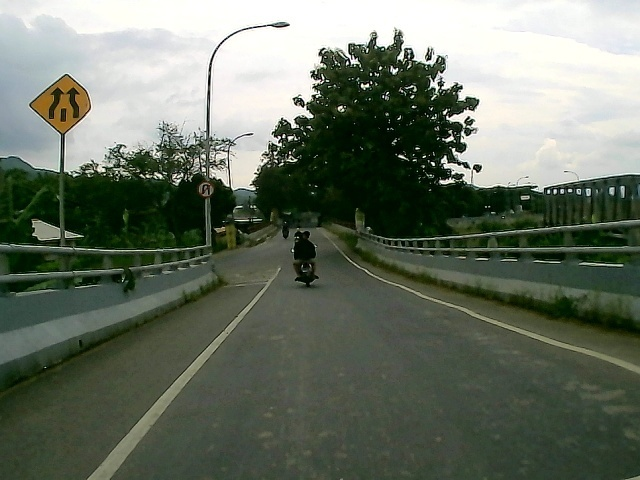Akhir bangunan pemisah satu arah: (26, 69, 96, 136)
Dilarang berbalik arah: (194, 181, 215, 201)
